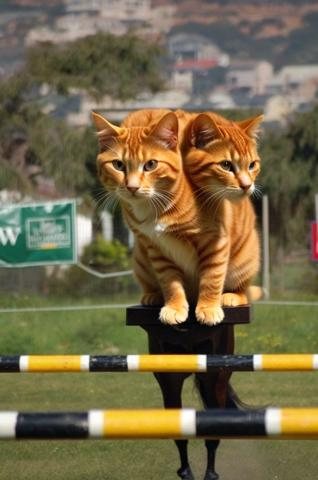cat: (91, 108, 262, 325)
horse: (116, 158, 238, 480)
